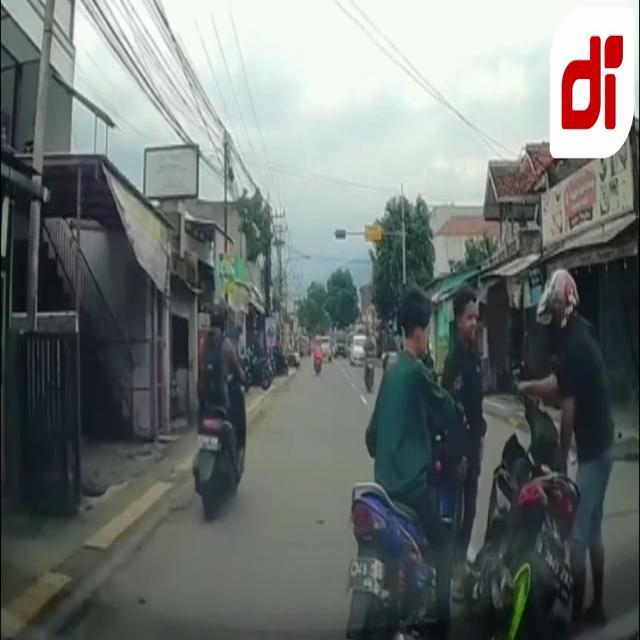multiple_accident: (333, 320, 609, 640)
